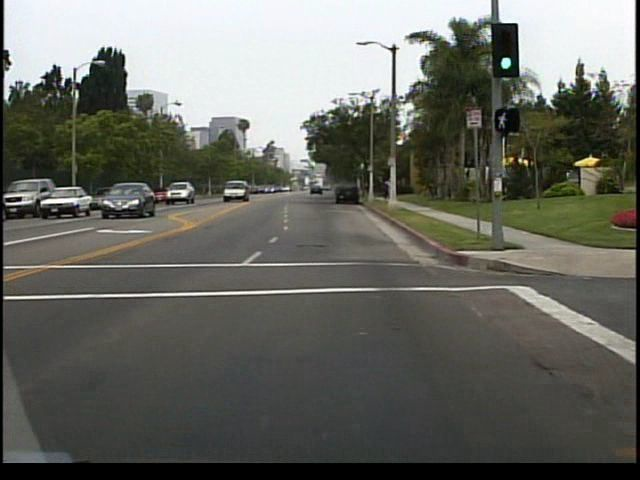person: (385, 172, 397, 200), (386, 178, 387, 200)
